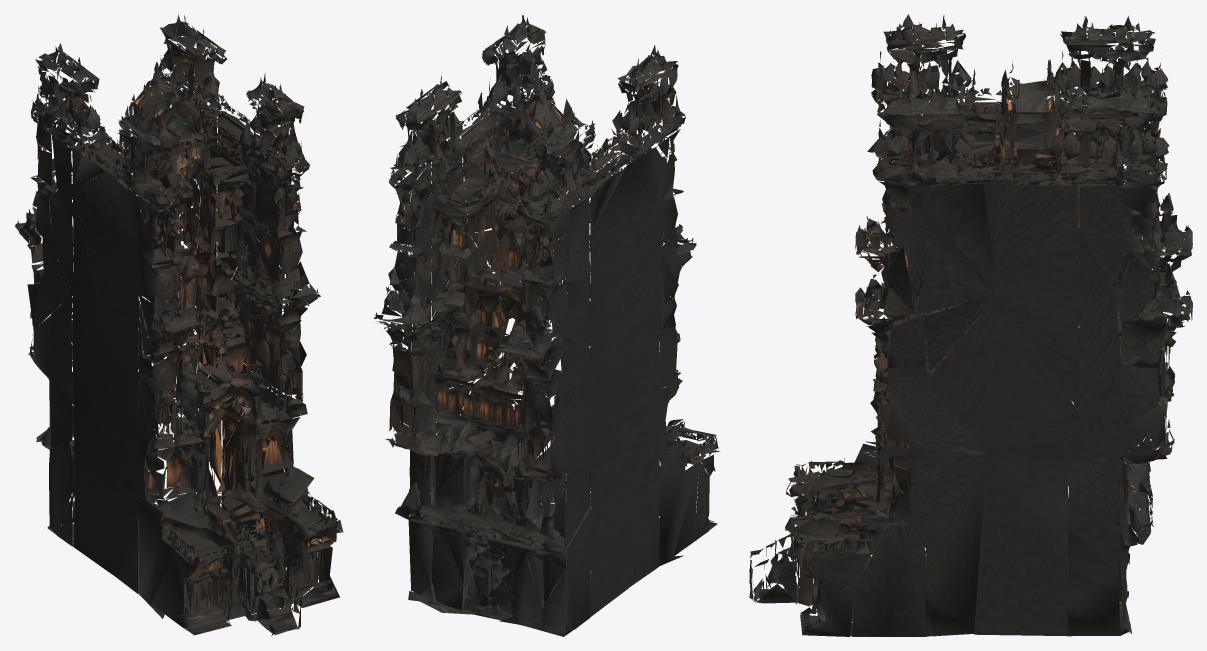
Rendered from emberclock_cathedral.glb.
3 views of the same model, side by side, from view 1: azimuth 30°, elevation 25°; view 2: azimuth 150°, elevation 25°; view 3: azimuth 270°, elevation 25° (orthographic). The views are drawn at different scales.
Parts seen in each view (by area): view 1: Mesh_0; view 2: Mesh_0; view 3: Mesh_0.
Part boxes in pixels (bbox=[...]): Mesh_0: bbox=[15, 14, 343, 636]; Mesh_0: bbox=[374, 15, 720, 636]; Mesh_0: bbox=[749, 14, 1192, 636].
Bounding box in the file's own units: 0.6865 × 1.92 × 1.39.
1 material, 1 textured.
